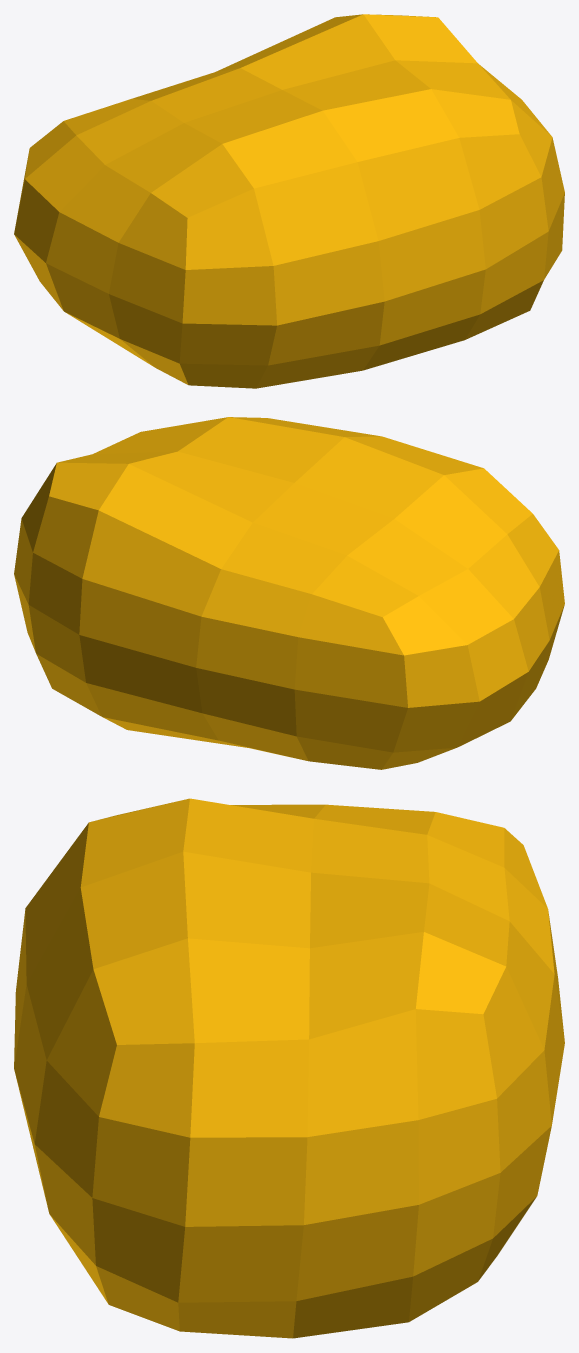
File: Potato.glb
3 views of the same model, one above another, from view 1: azimuth 30°, elevation 25°; view 2: azimuth 150°, elevation 25°; view 3: azimuth 270°, elevation 25° (orthographic). The views are drawn at different scales.
Parts seen in each view (by area): view 1: Cube; view 2: Cube; view 3: Cube.
Boxes of the visible parts, x1,y1,x2,y2 form: Cube: [14, 14, 564, 388]; Cube: [14, 417, 564, 769]; Cube: [14, 798, 564, 1338].
Bounding box in the file's own units: 0.2448 × 0.1314 × 0.169.
